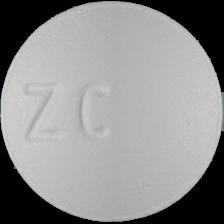0615-5579: (0, 0, 224, 224)
